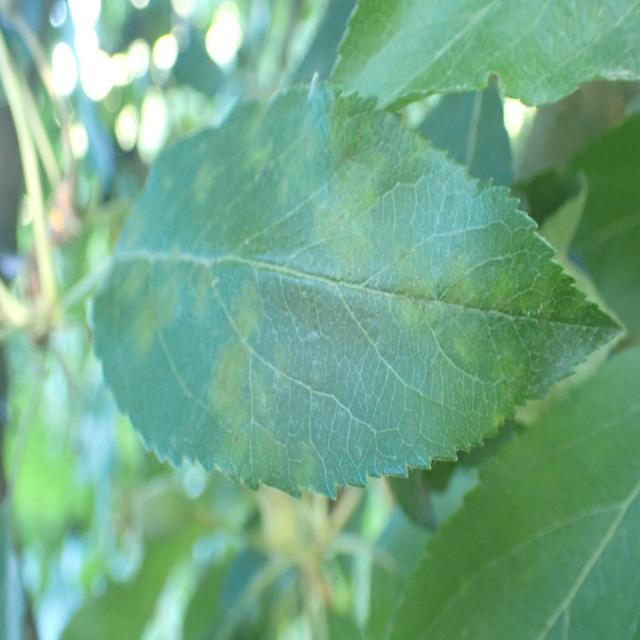scab: (107, 138, 577, 471)
